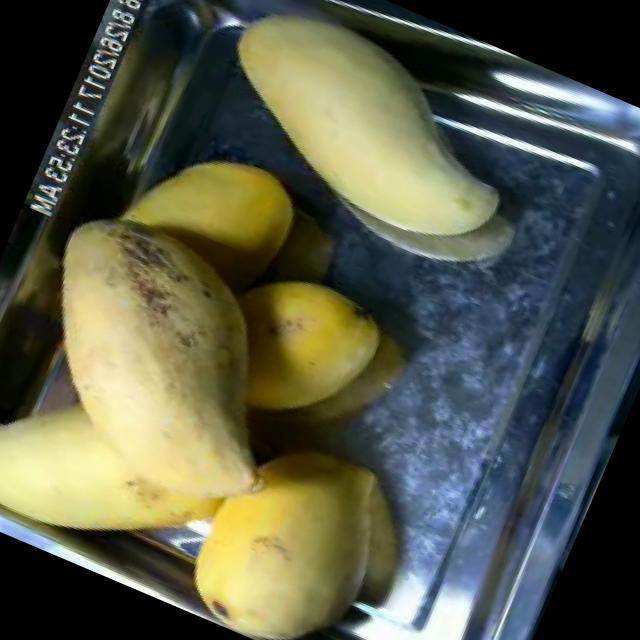fruit: (0, 166, 379, 621), (169, 0, 559, 284), (151, 391, 444, 640)
